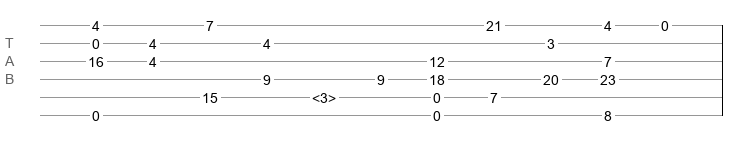0: (92, 36, 100, 46), (92, 108, 100, 118), (433, 90, 441, 100), (433, 108, 441, 118), (661, 18, 669, 28)
12: (429, 54, 445, 64)
15: (202, 90, 218, 100)
16: (88, 54, 104, 64)
18: (429, 72, 445, 82)
20: (543, 72, 559, 82)
21: (486, 18, 502, 28)
23: (600, 72, 616, 82)
3: (547, 36, 555, 46)
4: (92, 18, 100, 28), (149, 54, 157, 64), (149, 36, 157, 46), (263, 36, 271, 46), (604, 18, 612, 28)
7: (206, 18, 214, 28), (490, 90, 498, 100), (604, 54, 612, 64)
8: (604, 108, 612, 118)
9: (263, 72, 271, 82), (377, 72, 385, 82)
harmonic: (312, 90, 336, 100)
